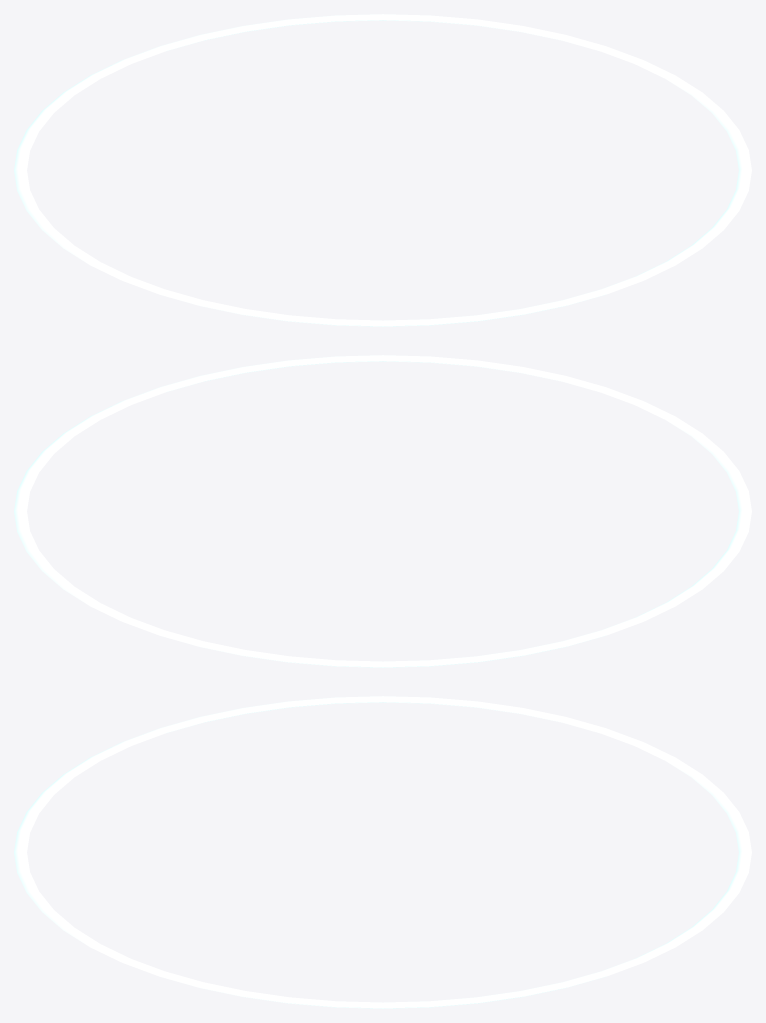
File: citadel_fx_ripple.glb
3 renders of one model, top to bottom at view 1: azimuth 30°, elevation 25°; view 2: azimuth 150°, elevation 25°; view 3: azimuth 270°, elevation 25°, orthographic.
Visible parts, largest first — view 1: fx_ripple_water; view 2: fx_ripple_water; view 3: fx_ripple_water.
Boxes of the visible parts, left/top/right/bottom form: fx_ripple_water: left=14, top=14, right=751, bottom=326; fx_ripple_water: left=14, top=355, right=751, bottom=667; fx_ripple_water: left=14, top=696, right=751, bottom=1008.
Size of the model in its own units: 2.04 by 0.0109 by 2.04.
